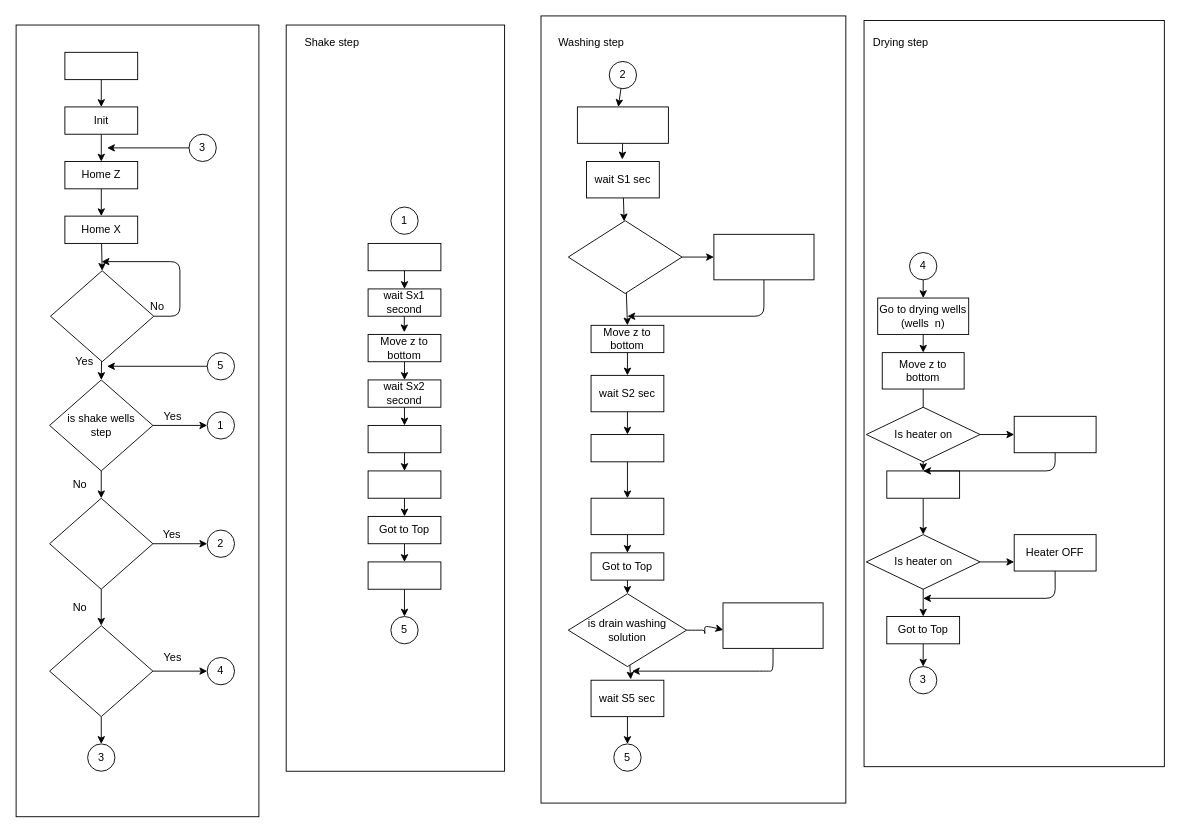
The diagram is 1180 pixels wide and 833 high, and some of its shapes have lost their labels. The shapes that lost their labels are listed below. From the top down, each one's box as (x1, y1, x2, y2) in pixels, then its label:
(64, 51, 138, 80): Start
(576, 106, 668, 143): Go to washing wells (wells n-1)
(367, 243, 441, 271): Move to wells x
(567, 220, 682, 293): is fill washing solution
(713, 233, 814, 280): fill washing solution by PUMP1
(50, 270, 154, 362): Select Program N
(367, 425, 441, 453): shake Sx3 second
(590, 434, 664, 462): shake S3 sec
(1013, 415, 1096, 453): Heater ON
(367, 470, 441, 498): wait Sx4 second
(886, 470, 960, 498): wait S6 sec
(590, 497, 664, 535): wait S4 sec
(49, 497, 153, 589): is washing wells step
(367, 561, 441, 589): wait Sx5 second
(722, 602, 823, 648): Drain washing solution by PUMP2
(49, 625, 153, 717): is drying wells step
